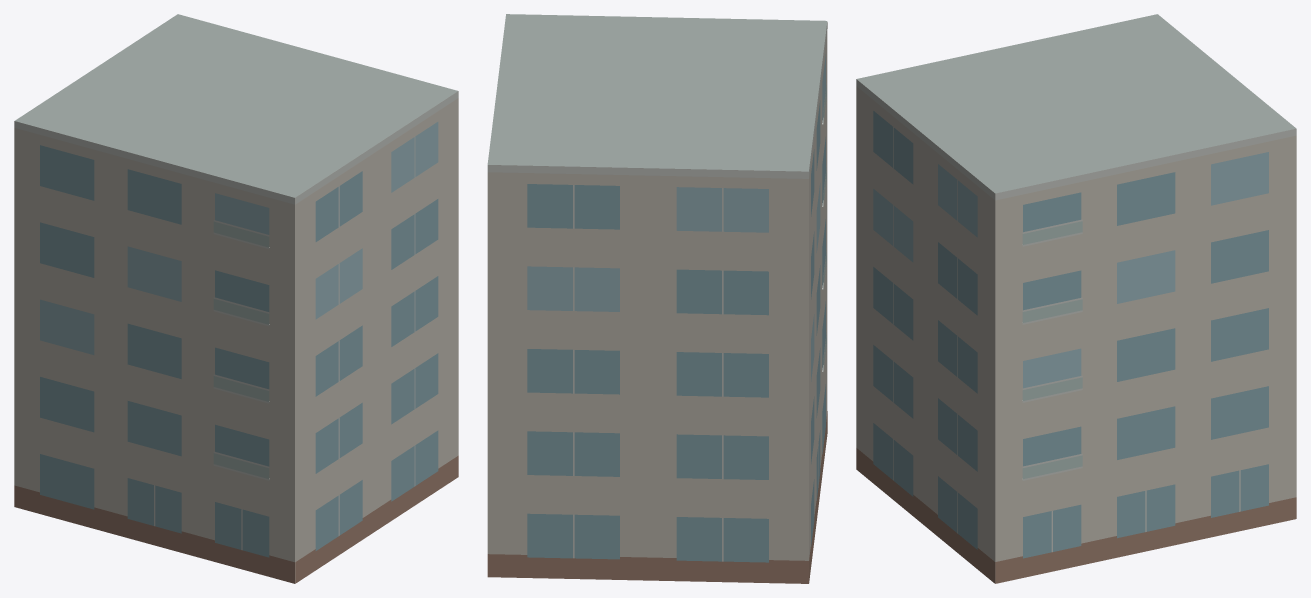
Rendered from survey-upis-33012852.glb.
3 views of the same model, side by side, from view 1: azimuth 30°, elevation 25°; view 2: azimuth 150°, elevation 25°; view 3: azimuth 270°, elevation 25° (orthographic). The views are drawn at different scales.
Visible parts, largest first — view 1: survey-upis-33012852.tmp; view 2: survey-upis-33012852.tmp; view 3: survey-upis-33012852.tmp.
Part boxes in pixels (x1,y1,x2,y2): survey-upis-33012852.tmp: [14, 14, 458, 583]; survey-upis-33012852.tmp: [487, 14, 827, 583]; survey-upis-33012852.tmp: [856, 14, 1296, 583].
Size of the model in its own units: 13.52 by 13.7 by 14.02.
